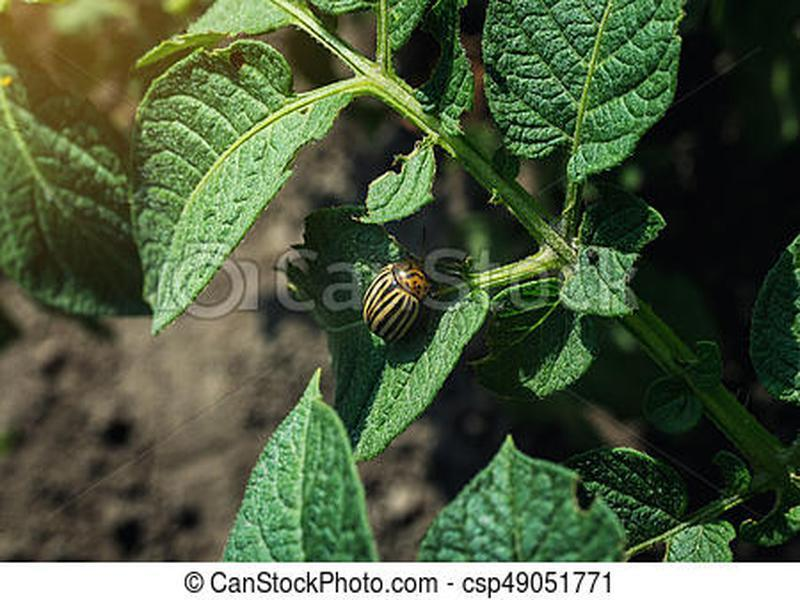hrosc: (351, 258, 436, 345)
